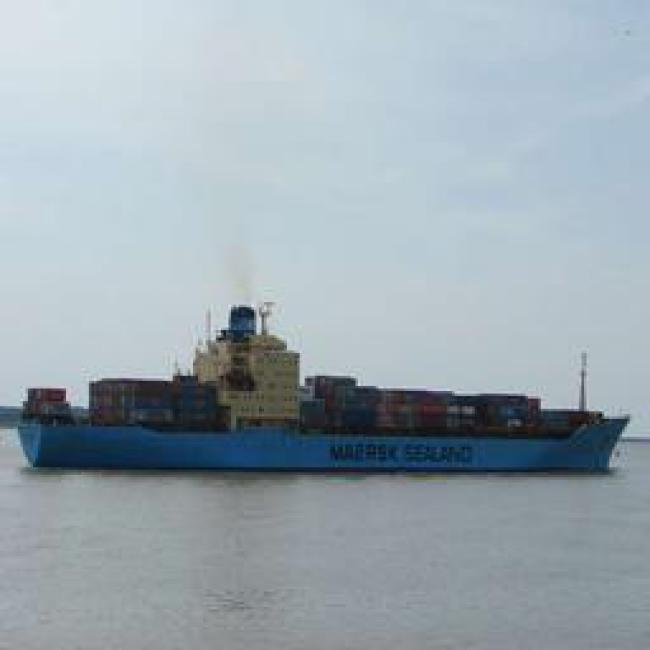Ship: (7, 344, 649, 478)
